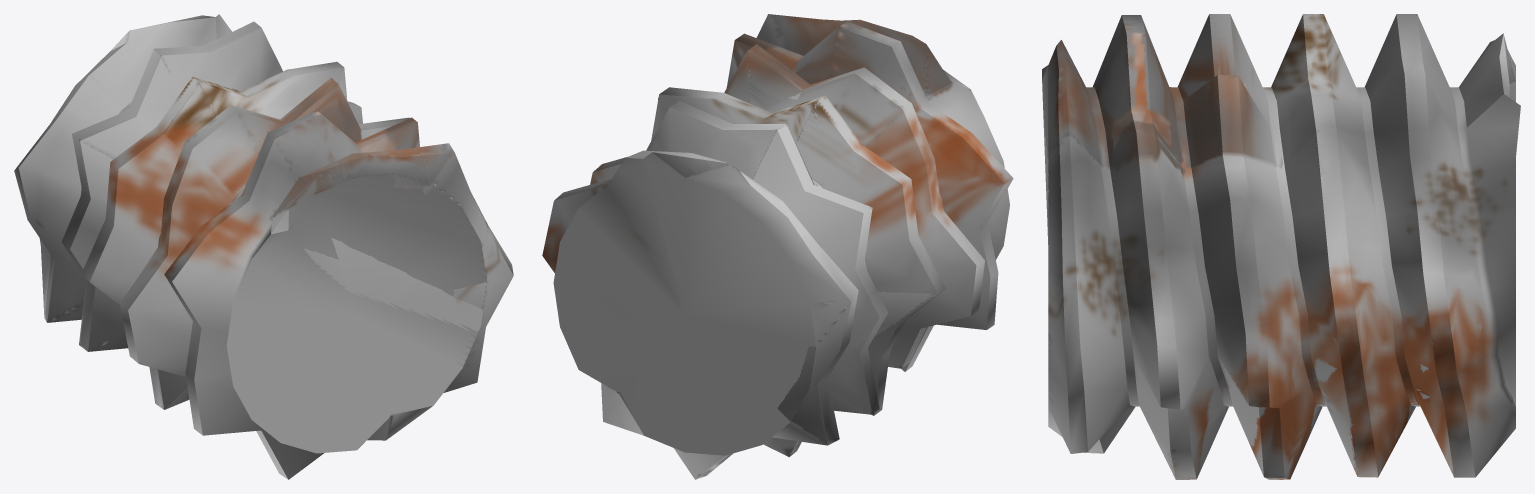
The model's file is Crusher.fbx.
The picture shows the model from 3 angles, left to right: view 1: azimuth 30°, elevation 25°; view 2: azimuth 150°, elevation 25°; view 3: azimuth 270°, elevation 25°; orthographic projection. The views are drawn at different scales.
Parts seen in each view (by area): view 1: Crusher; view 2: Crusher; view 3: Crusher.
Part boxes in pixels (x1,y1,x2,y2): Crusher: (14,14,513,479); Crusher: (542,14,1013,479); Crusher: (1042,14,1520,479).
Bounding box in the file's own units: 16.25 × 16.19 × 16.53.
Materials: 1 (1 with a texture image).
